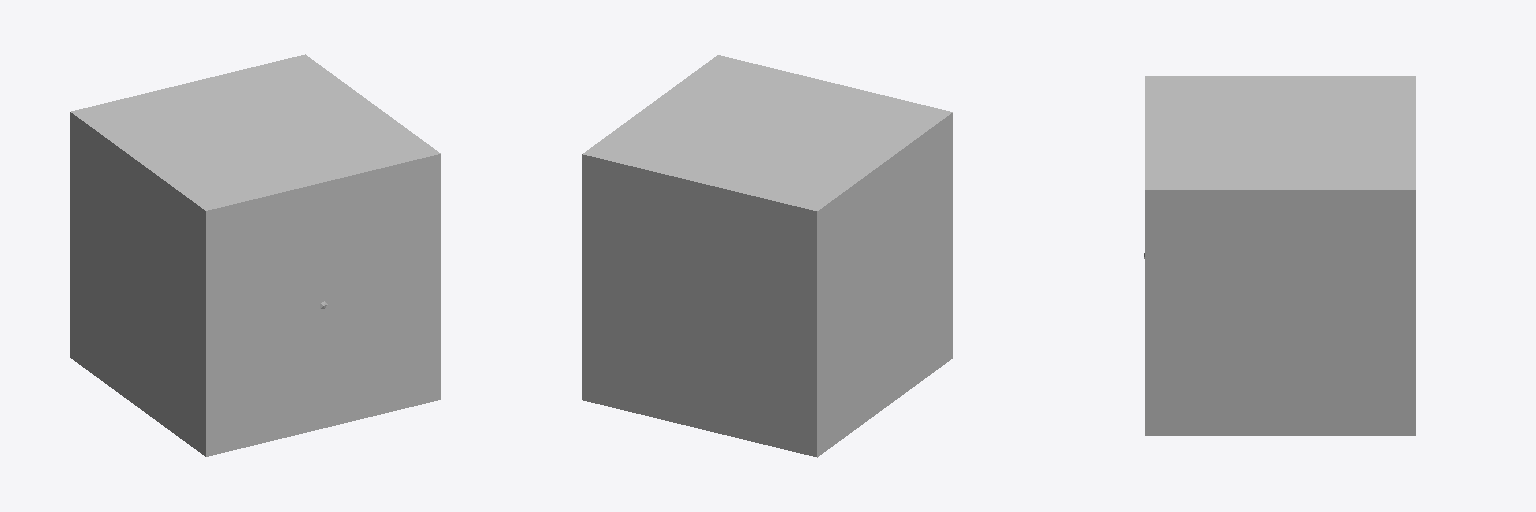
File: LightShapes.obj
The picture shows the model from 3 angles: view 1: azimuth 30°, elevation 25°; view 2: azimuth 150°, elevation 25°; view 3: azimuth 270°, elevation 25°; orthographic projection.
Parts seen in each view (by area): view 1: Cube, Cone; view 2: Cube; view 3: Cube.
Part boxes in pixels (bbox=[...]): Cube: bbox=[70, 54, 440, 456]; Cone: bbox=[206, 182, 440, 427]; Cube: bbox=[582, 55, 952, 457]; Cube: bbox=[1145, 76, 1415, 435].
Bounding box in the file's own units: 2 × 2 × 2.01.